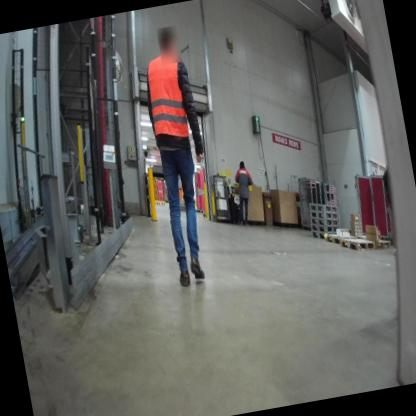pallet: (357, 229, 392, 254), (340, 233, 376, 256), (322, 227, 355, 252), (307, 197, 337, 220), (309, 209, 338, 231), (307, 205, 338, 223), (311, 220, 339, 237), (310, 227, 327, 242)
